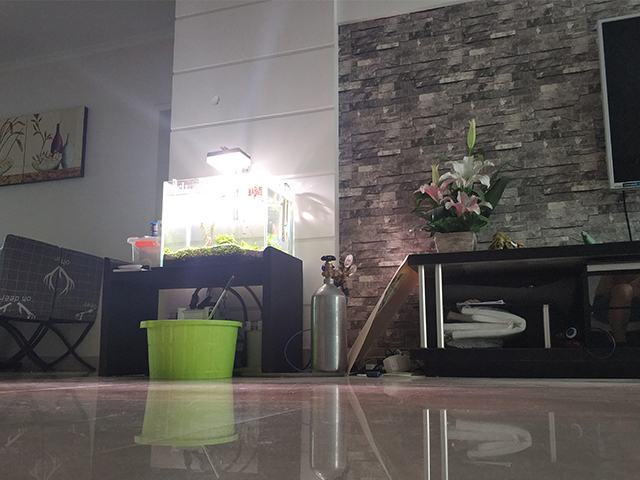cabinet: (406, 238, 640, 381)
stool: (1, 231, 107, 373)
